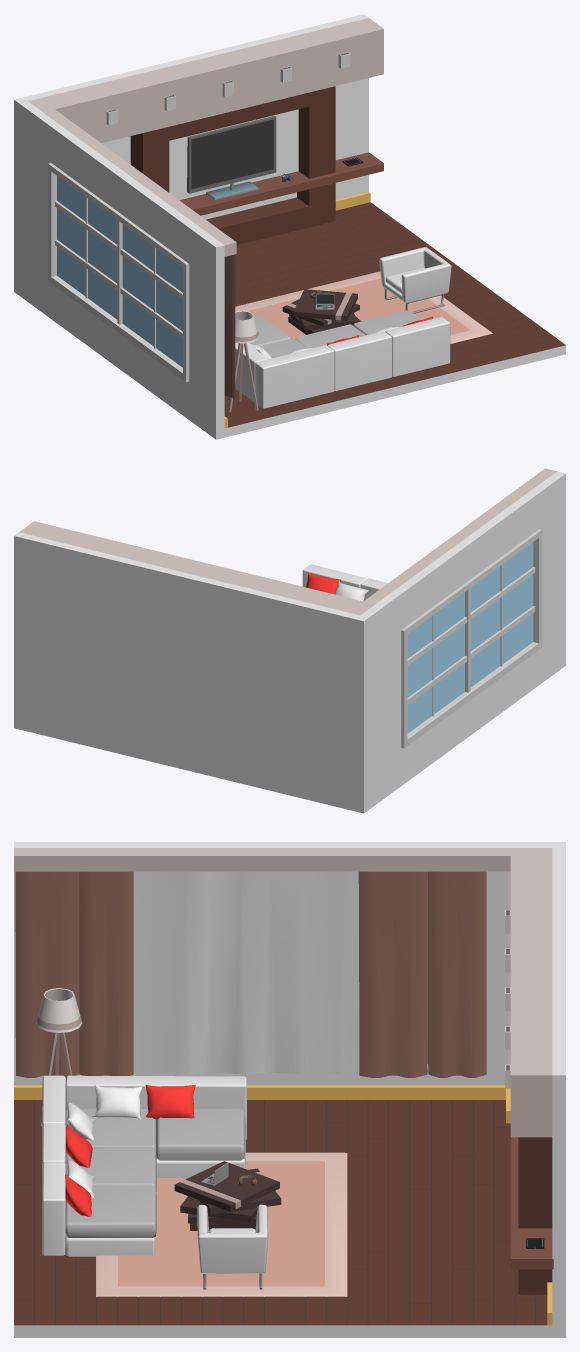
File: room_3.glb
3 views of the same model, one above another, from view 1: azimuth 30°, elevation 25°; view 2: azimuth 150°, elevation 25°; view 3: azimuth 270°, elevation 25° (orthographic). The views are drawn at different scales.
Visible parts, largest first — view 1: Walls_169.002, window_018.009, sofa_027.004, floor_004.004, Walls_006.145, Walls_006.146, floor_004.003, Walls_006.148, Walls_006.143, electronics_033.001, Walls_011.020, carpet_007.001 (+15 smaller); view 2: Walls_006.143, window_018.009, Walls_006.146, Walls_006.148, Walls_006.145, Walls_006.147, Walls_169.002, Walls_169.004, sofa_027.004, Walls_169.003, pillow_009.007; view 3: Curtains_027.001, Curtains_031.005, sofa_027.004, Curtains_031.006, floor_004.004, floor_004.006, carpet_007.001, floor_004.003, Walls_169.004, Walls_169.002, Walls_011.020, Walls_006.143 (+17 smaller).
Boxes of the visible parts, x1=… form: Walls_169.002: x1=63, y1=18, x2=383, y2=143; window_018.009: x1=48, y1=163, x2=189, y2=382; sofa_027.004: x1=235, y1=310, x2=450, y2=408; floor_004.004: x1=235, y1=202, x2=466, y2=297; Walls_006.145: x1=188, y1=225, x2=224, y2=439; Walls_006.146: x1=14, y1=97, x2=60, y2=319; floor_004.003: x1=384, y1=272, x2=565, y2=386; Walls_006.148: x1=52, y1=125, x2=196, y2=262; Walls_006.143: x1=23, y1=14, x2=368, y2=219; electronics_033.001: x1=187, y1=115, x2=276, y2=199; Walls_011.020: x1=224, y1=205, x2=565, y2=437; carpet_007.001: x1=235, y1=271, x2=492, y2=343; Walls_006.143: x1=14, y1=532, x2=359, y2=811; window_018.009: x1=401, y1=529, x2=542, y2=748; Walls_006.146: x1=355, y1=591, x2=401, y2=813; Walls_006.148: x1=393, y1=491, x2=538, y2=628; Walls_006.145: x1=530, y1=471, x2=565, y2=685; Walls_006.147: x1=402, y1=651, x2=538, y2=785; Walls_169.002: x1=19, y1=521, x2=339, y2=606; Walls_169.004: x1=363, y1=468, x2=556, y2=604; sofa_027.004: x1=302, y1=564, x2=387, y2=601; Walls_169.003: x1=325, y1=596, x2=374, y2=615; pillow_009.007: x1=306, y1=572, x2=340, y2=594; Curtains_027.001: x1=133, y1=871, x2=428, y2=1074; Curtains_031.005: x1=358, y1=871, x2=486, y2=1077; sofa_027.004: x1=42, y1=1075, x2=246, y2=1256; Curtains_031.006: x1=15, y1=871, x2=133, y2=1077; floor_004.004: x1=285, y1=1210, x2=547, y2=1325; floor_004.006: x1=285, y1=1100, x2=510, y2=1210; carpet_007.001: x1=96, y1=1152, x2=347, y2=1296; floor_004.003: x1=14, y1=1210, x2=284, y2=1325; Walls_169.004: x1=14, y1=848, x2=510, y2=871; Walls_169.002: x1=510, y1=871, x2=552, y2=1137; Walls_011.020: x1=14, y1=1100, x2=552, y2=1337; Walls_006.143: x1=552, y1=848, x2=565, y2=1337.
Size of the model in its own units: 8.07 by 4.2 by 8.
1 material, 1 textured.
